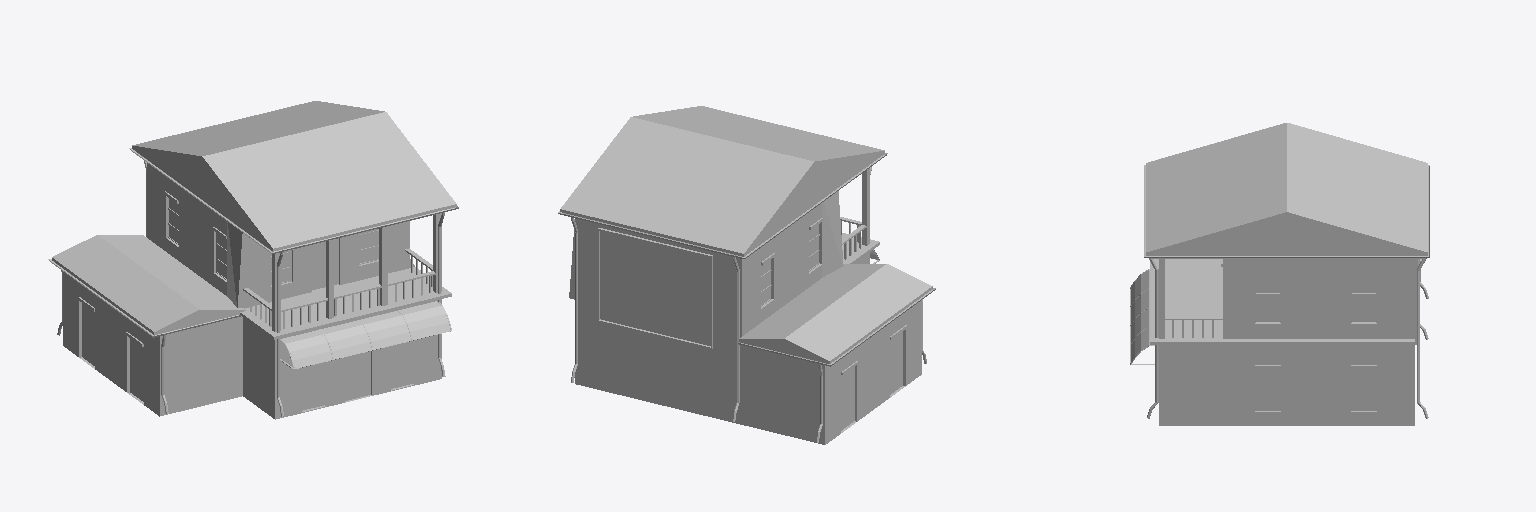
Rendered from house.obj.
3 renders of one model, left to right at view 1: azimuth 30°, elevation 25°; view 2: azimuth 150°, elevation 25°; view 3: azimuth 270°, elevation 25°, orthographic.
Visible parts, largest first — view 1: LPBuildX12r; view 2: LPBuildX12r; view 3: LPBuildX12r.
Part boxes in pixels (x1,y1,x2,y2): LPBuildX12r: (48, 101, 458, 419); LPBuildX12r: (558, 106, 935, 444); LPBuildX12r: (1130, 123, 1429, 425).
Bounding box in the file's own units: 974 × 750 × 935.